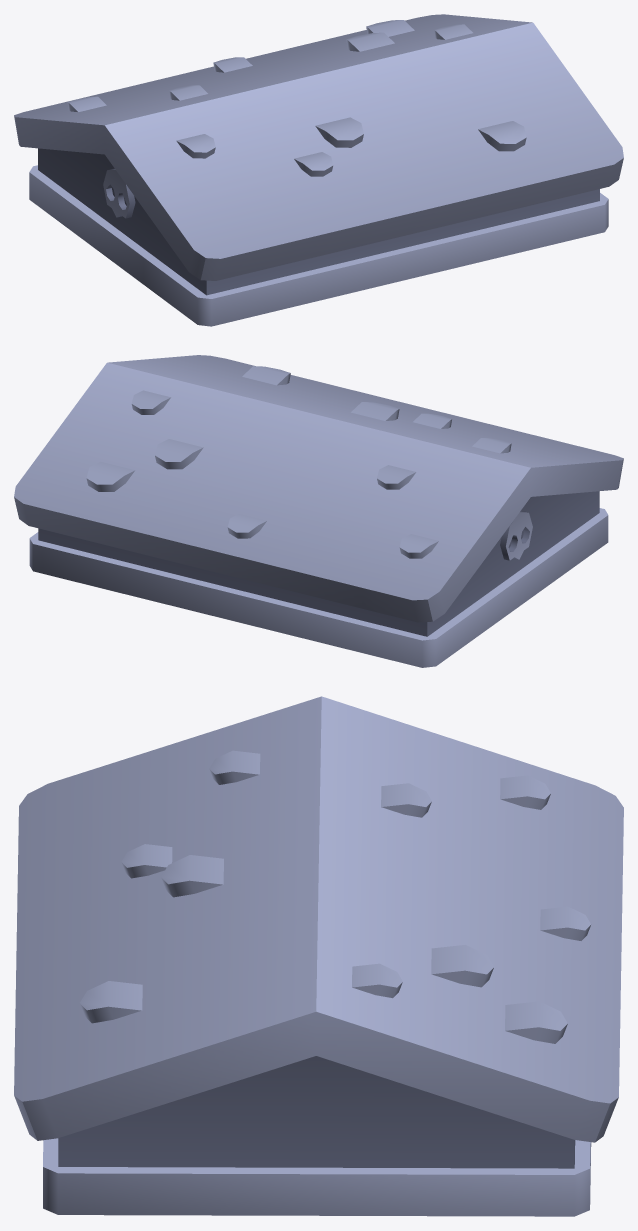
File: crypt-large-roof.005_lev2.glb
The picture shows the model from 3 angles, top to bottom: view 1: azimuth 30°, elevation 25°; view 2: azimuth 150°, elevation 25°; view 3: azimuth 270°, elevation 25°; orthographic projection. The views are drawn at different scales.
Parts seen in each view (by area): view 1: crypt-large-roof.005_lev2; view 2: crypt-large-roof.005_lev2; view 3: crypt-large-roof.005_lev2.
Boxes of the visible parts, <box> form: crypt-large-roof.005_lev2: <box>14,14,623,326</box>; crypt-large-roof.005_lev2: <box>14,355,623,667</box>; crypt-large-roof.005_lev2: <box>14,696,623,1216</box>.
Size of the model in its own units: 39.22 by 12.15 by 31.89.
1 material, 1 textured.
